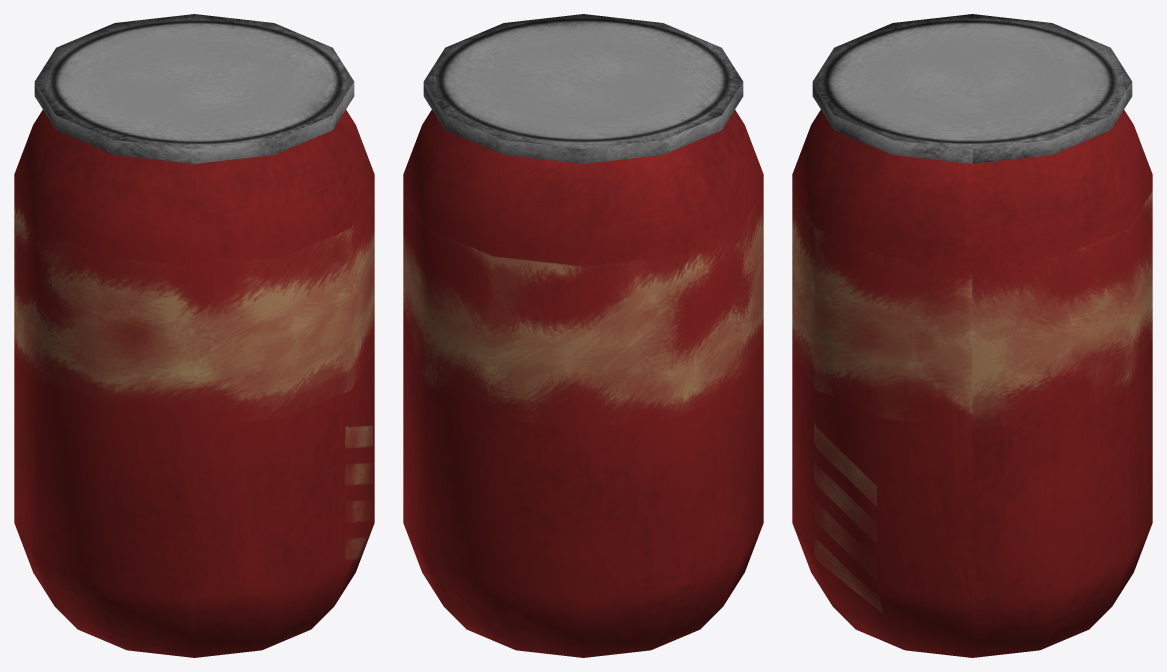
Rendered from Barrel.FBX.
3 renders of one model, left to right at view 1: azimuth 30°, elevation 25°; view 2: azimuth 150°, elevation 25°; view 3: azimuth 270°, elevation 25°, orthographic.
Parts seen in each view (by area): view 1: Cylinder006; view 2: Cylinder006; view 3: Cylinder006.
Boxes of the visible parts, x1,y1,x2,y2 form: Cylinder006: [14, 14, 374, 657]; Cylinder006: [403, 14, 763, 657]; Cylinder006: [792, 14, 1152, 657].
Bounding box in the file's own units: 97.2 × 154 × 97.2.
